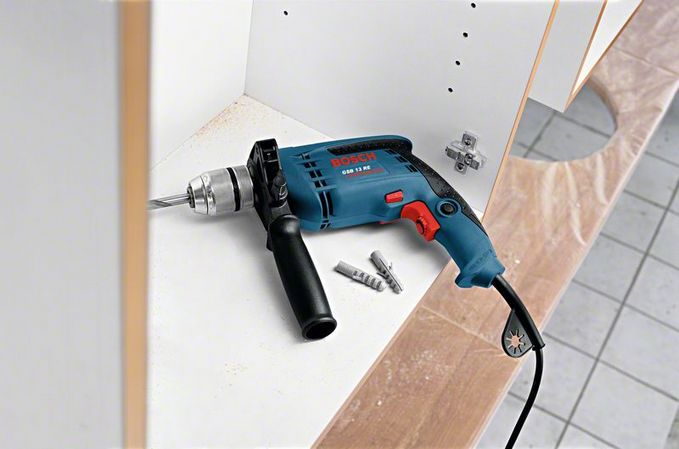Bosch: (323, 149, 385, 171)
